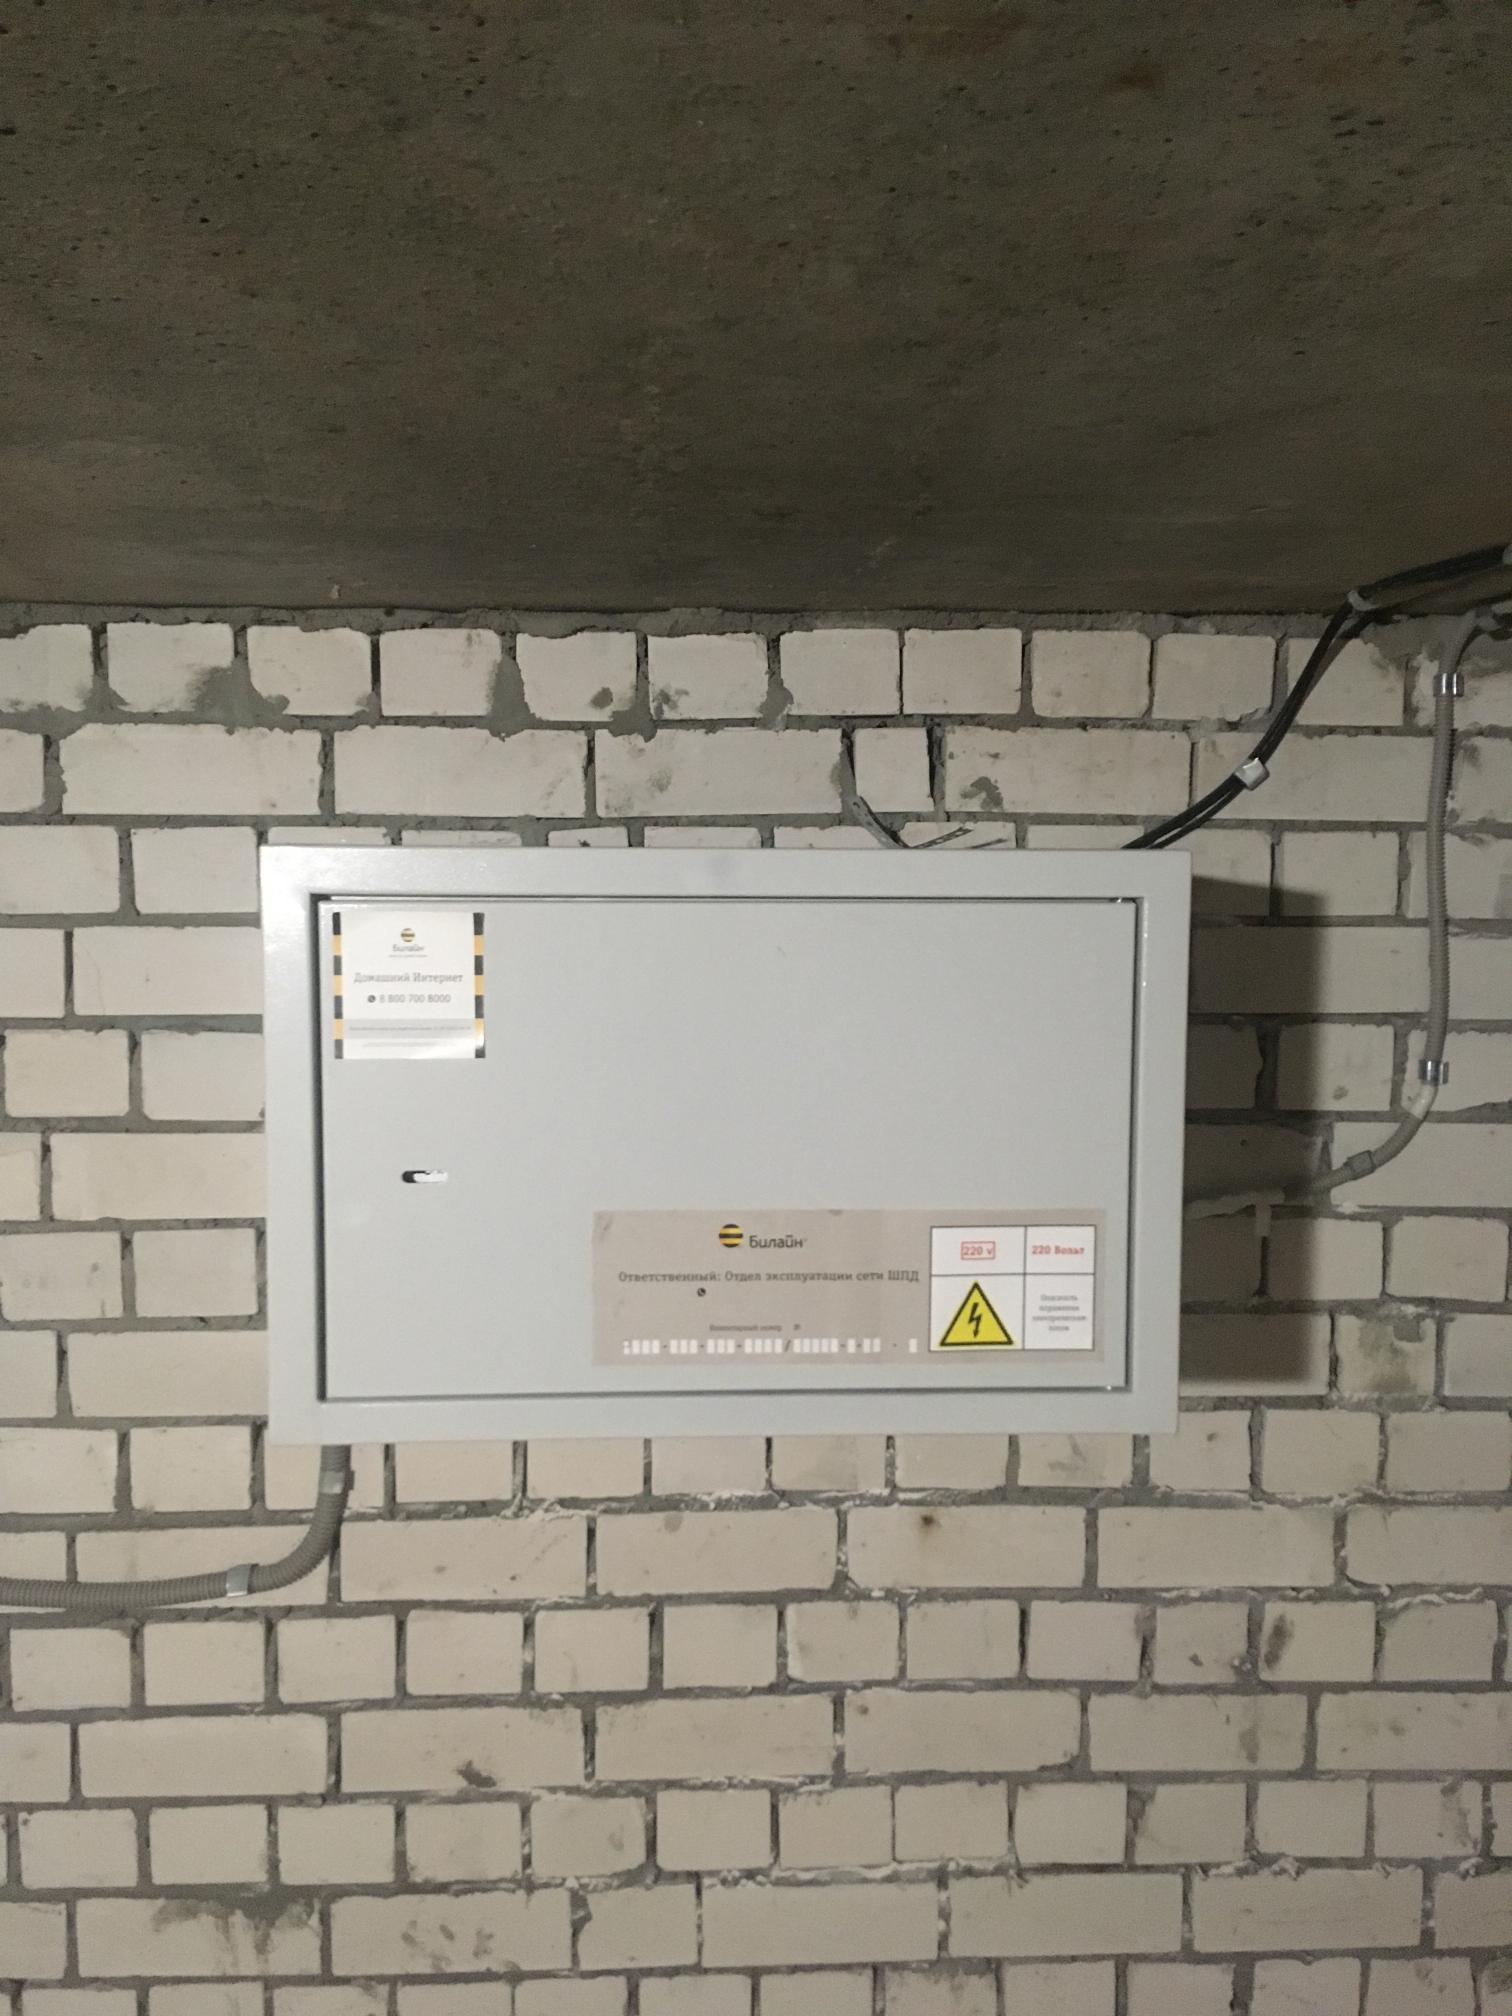shta-7m: (249, 829, 1204, 1460)
